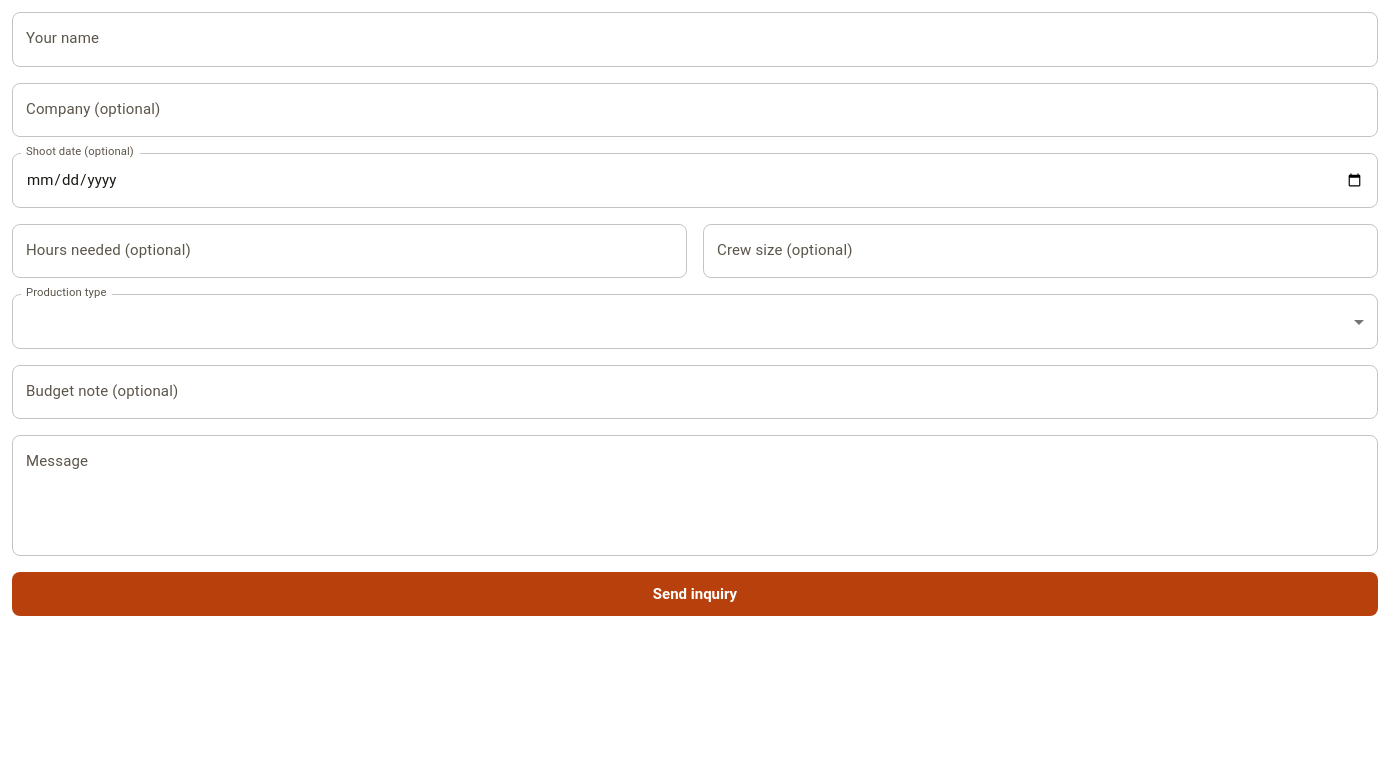
validates on the client with the shared rules and doesn't post
Click the button "Send inquiry" at (695, 594), box [12,572,1378,616]
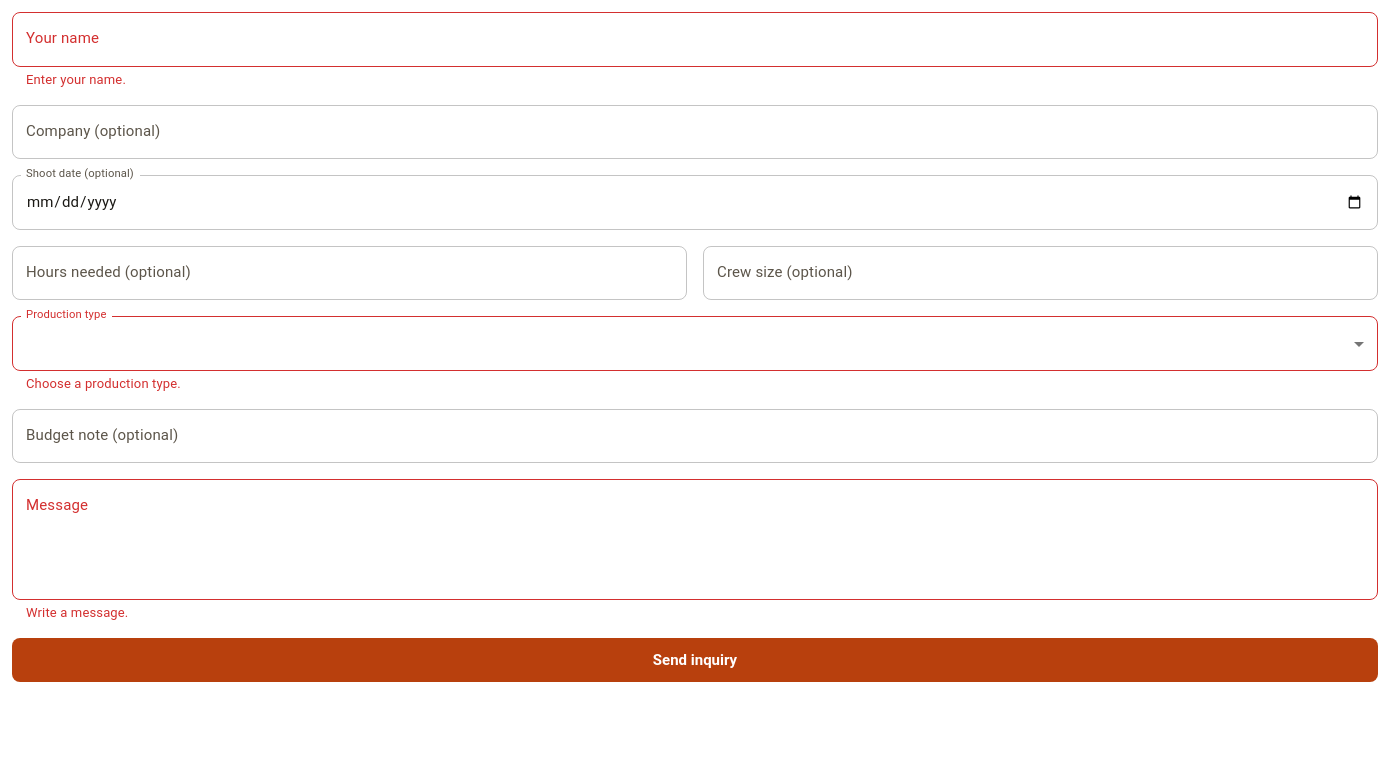
Expected: the text "Enter your name." is shown, [26,72,126,87]
Expected: the text "Write a message." is shown, [26,605,128,620]
